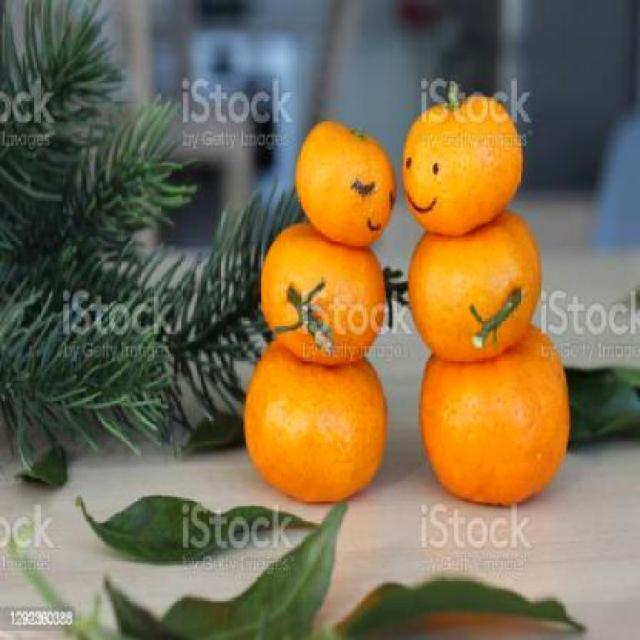Jeruk Sudah Matang: (413, 325, 575, 510), (242, 340, 386, 496), (406, 210, 543, 366), (260, 218, 391, 360), (403, 95, 523, 231), (294, 124, 396, 248)
